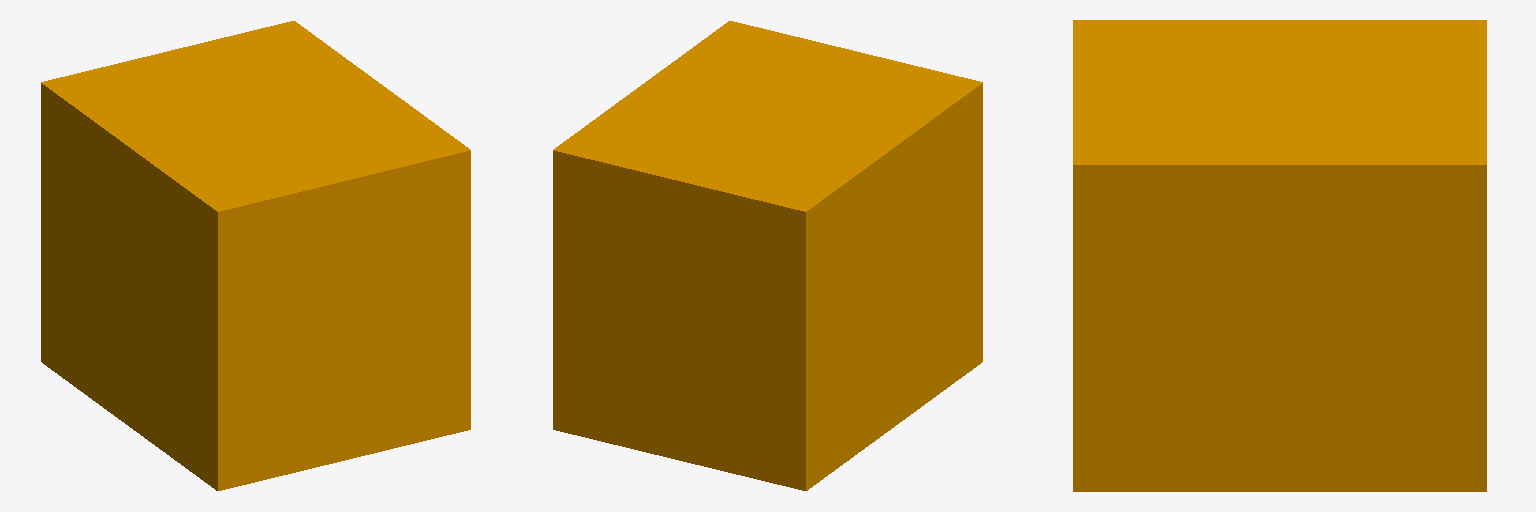
robot.urdf — object:
<robot name="object">
  <link name="object">
    <visual>
      <origin xyz="0 0 0" />
      <geometry>
        <box size="0.07600000000000001 0.09200000000000003 0.08" />
      </geometry>
    </visual>

    <collision>
      <origin xyz="0 0 0" />
      <geometry>
        <box size="0.07600000000000001 0.09200000000000003 0.08" />
      </geometry>
    </collision>

    <inertial>
      <mass value="0.05" />
      <inertia ixx="0.0001" ixy="0.0" ixz="0.0" iyy="0.0001" iyz="0.0" izz="0.0001" />
    </inertial>
  </link>
</robot>

--- Facts derived from the render (not from the file) ---
3 views of the same robot in one strip: view 1: azimuth 30°, elevation 25°; view 2: azimuth 150°, elevation 25°; view 3: azimuth 270°, elevation 25° (orthographic).
Robot: object — 1 links, 0 joints (none); root link object; default pose: every joint at zero.
Visible links, largest first — view 1: object; view 2: object; view 3: object.
Boxes of the visible links, x1,y1,x2,y2 form: object: (41, 21, 470, 490); object: (553, 21, 982, 490); object: (1073, 20, 1486, 491).
Bounding box of the posed robot: 0.076 × 0.092 × 0.08 m (x, y, z).
Geometry: primitives only (box / cylinder / sphere), no mesh files.